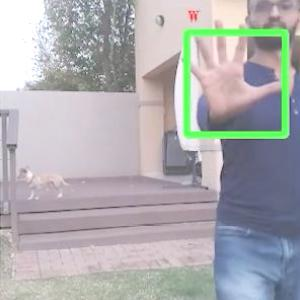follow_hand: (177, 15, 290, 114)
